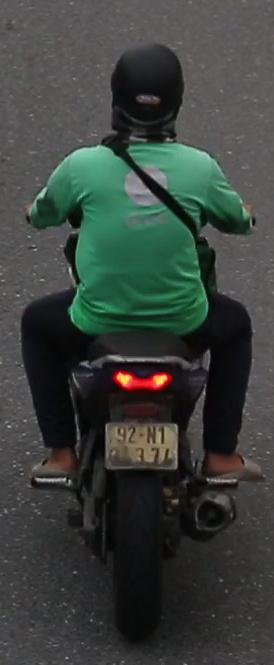LP: (102, 413, 183, 475)
helmet: (105, 34, 189, 152)
